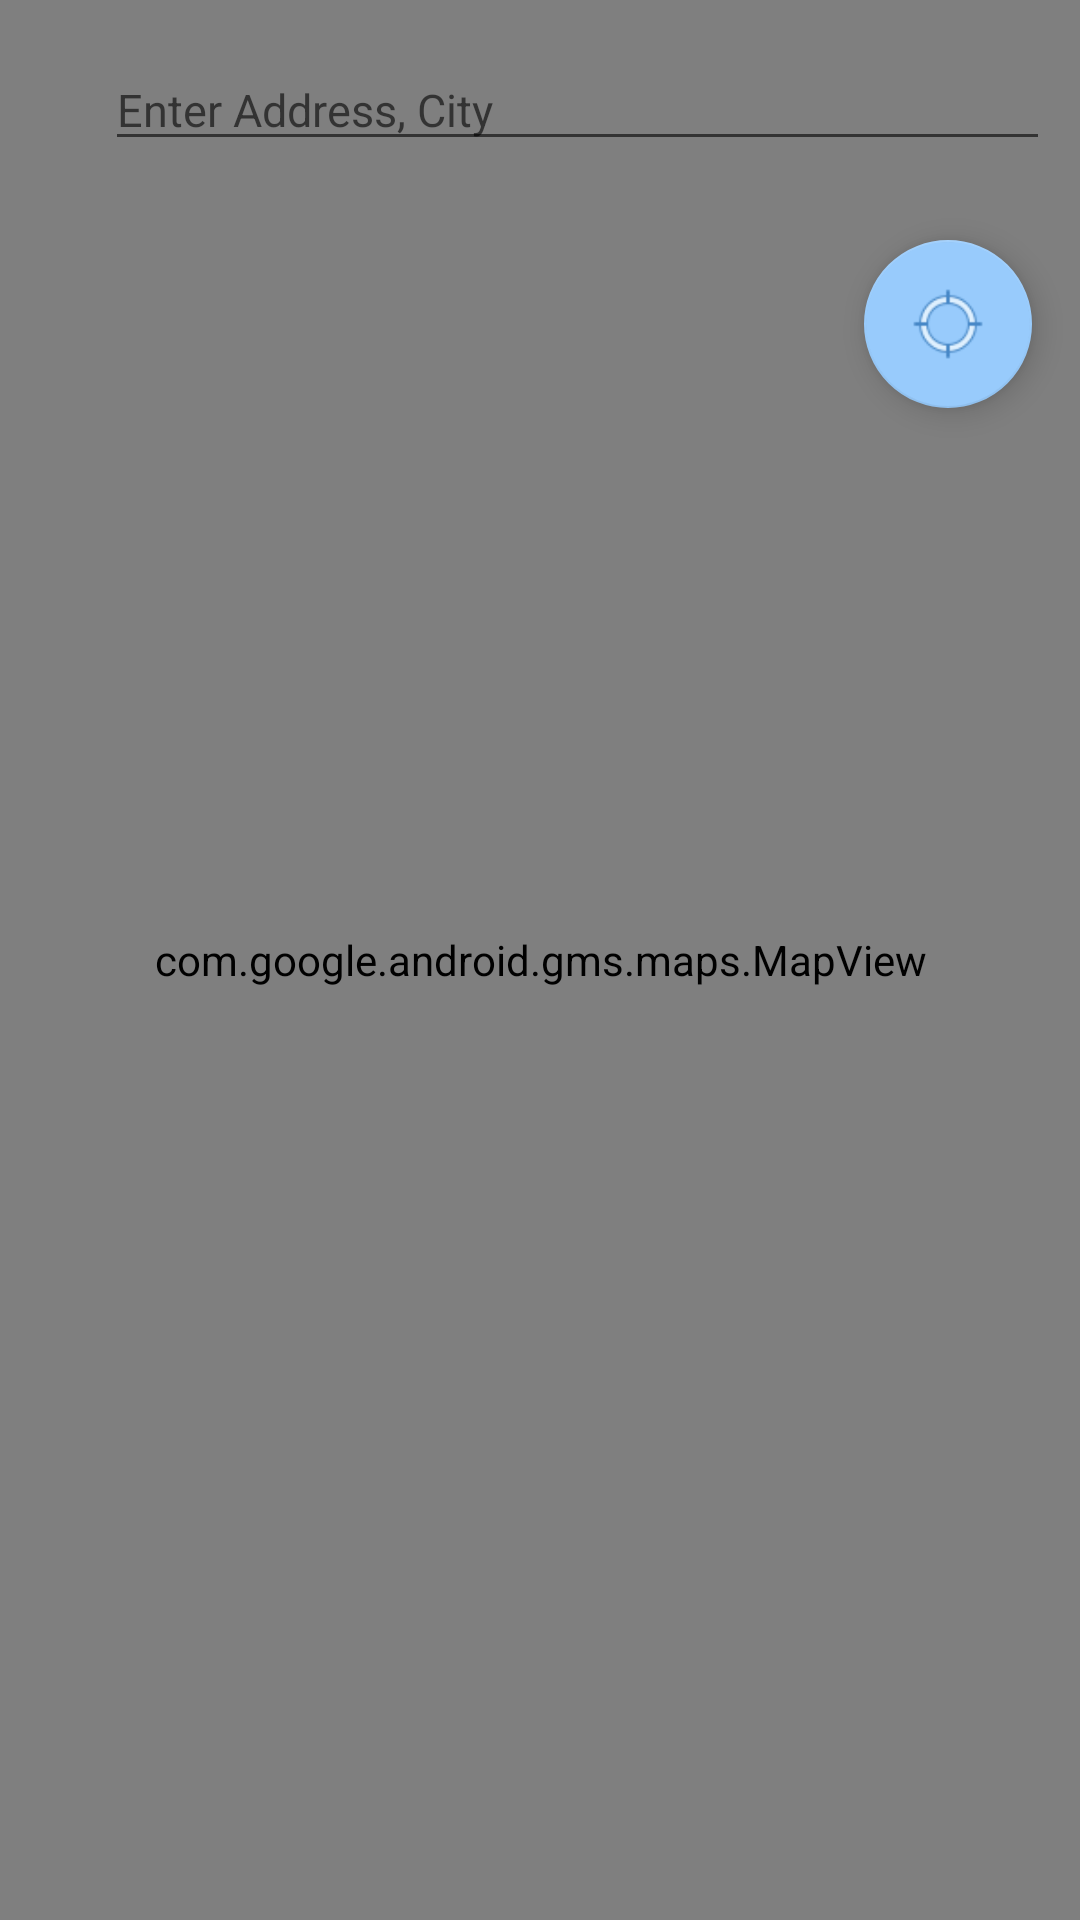

Screen size 1080×1920. Icon name, then its box in pixels as (x1,y1,x2,y2):
find location: (864,240,1032,408)
